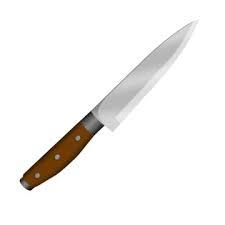Knife: (19, 18, 198, 190)
